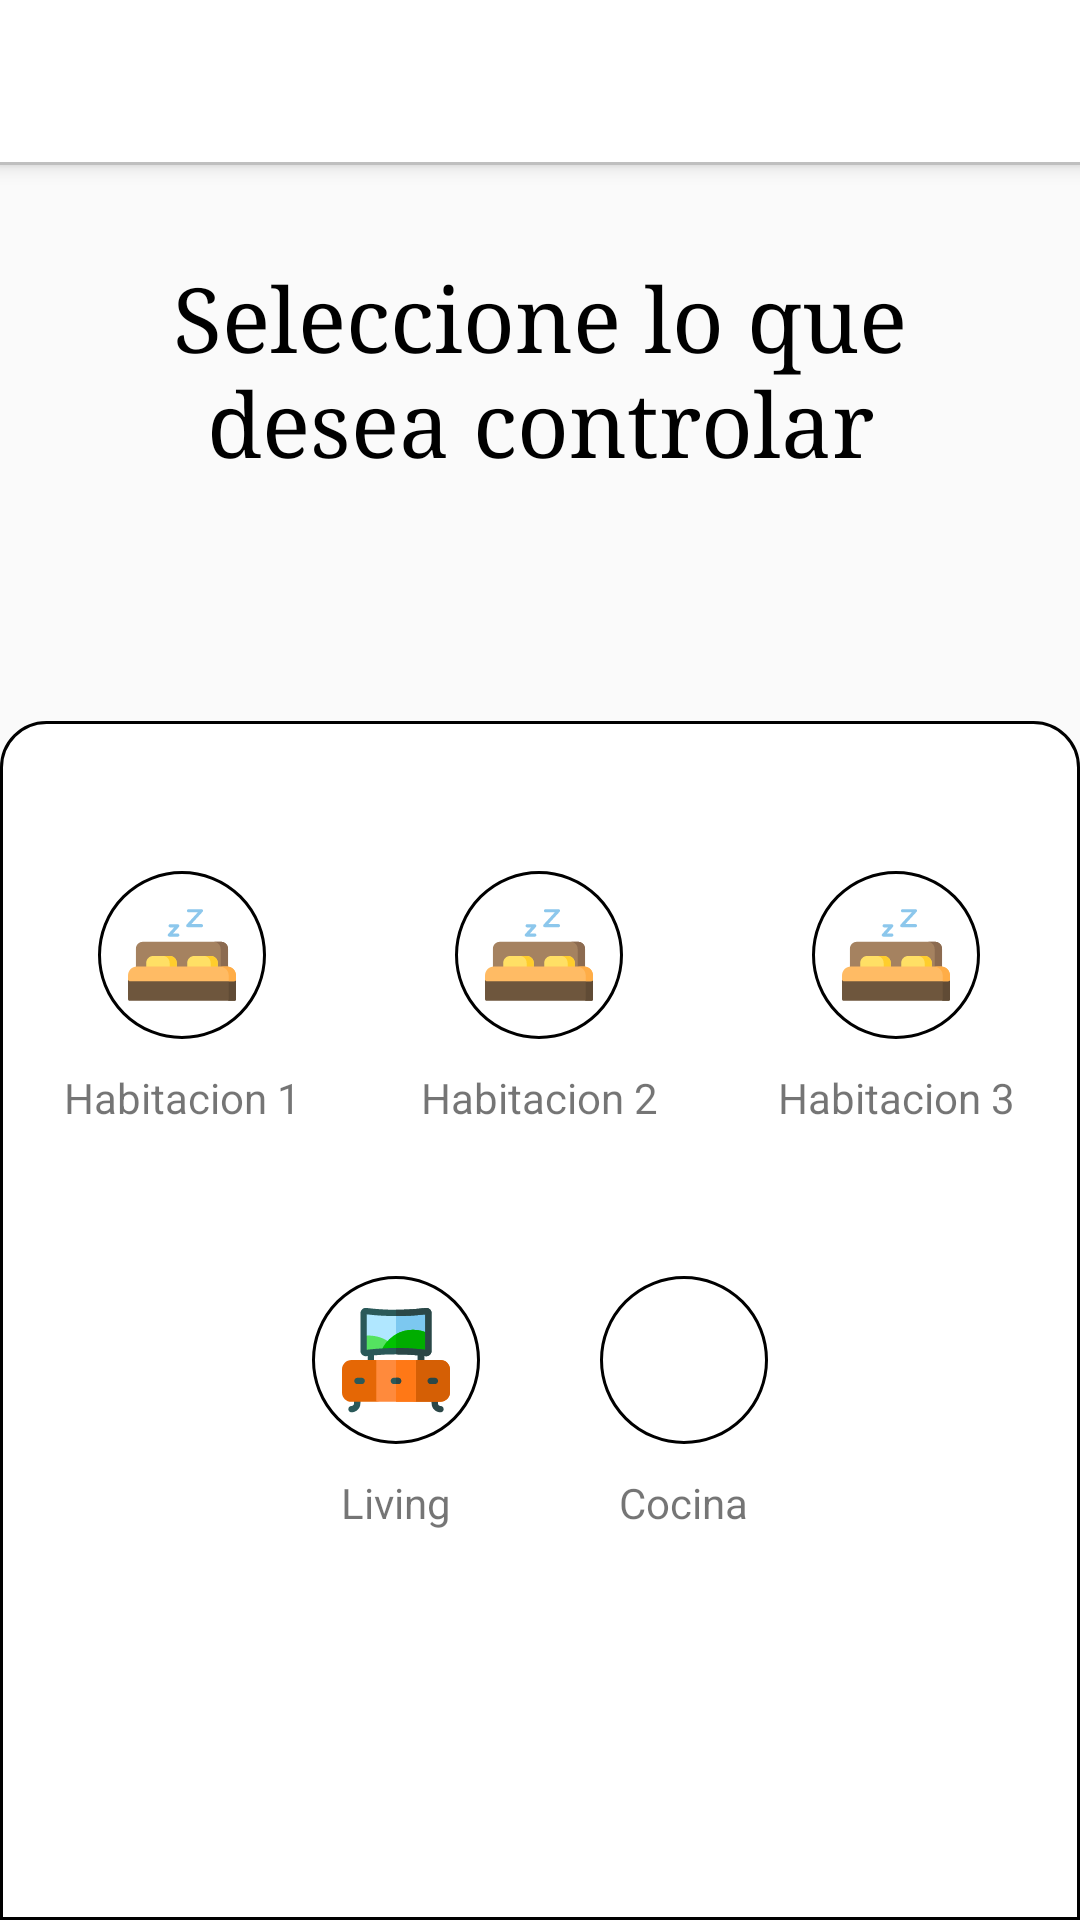

Icons on this 1080 × 1920 Android screen, each with its box as (x1, y1, x2, y2):
bed: (98, 871, 266, 1039), (455, 871, 623, 1039), (812, 871, 980, 1039)
